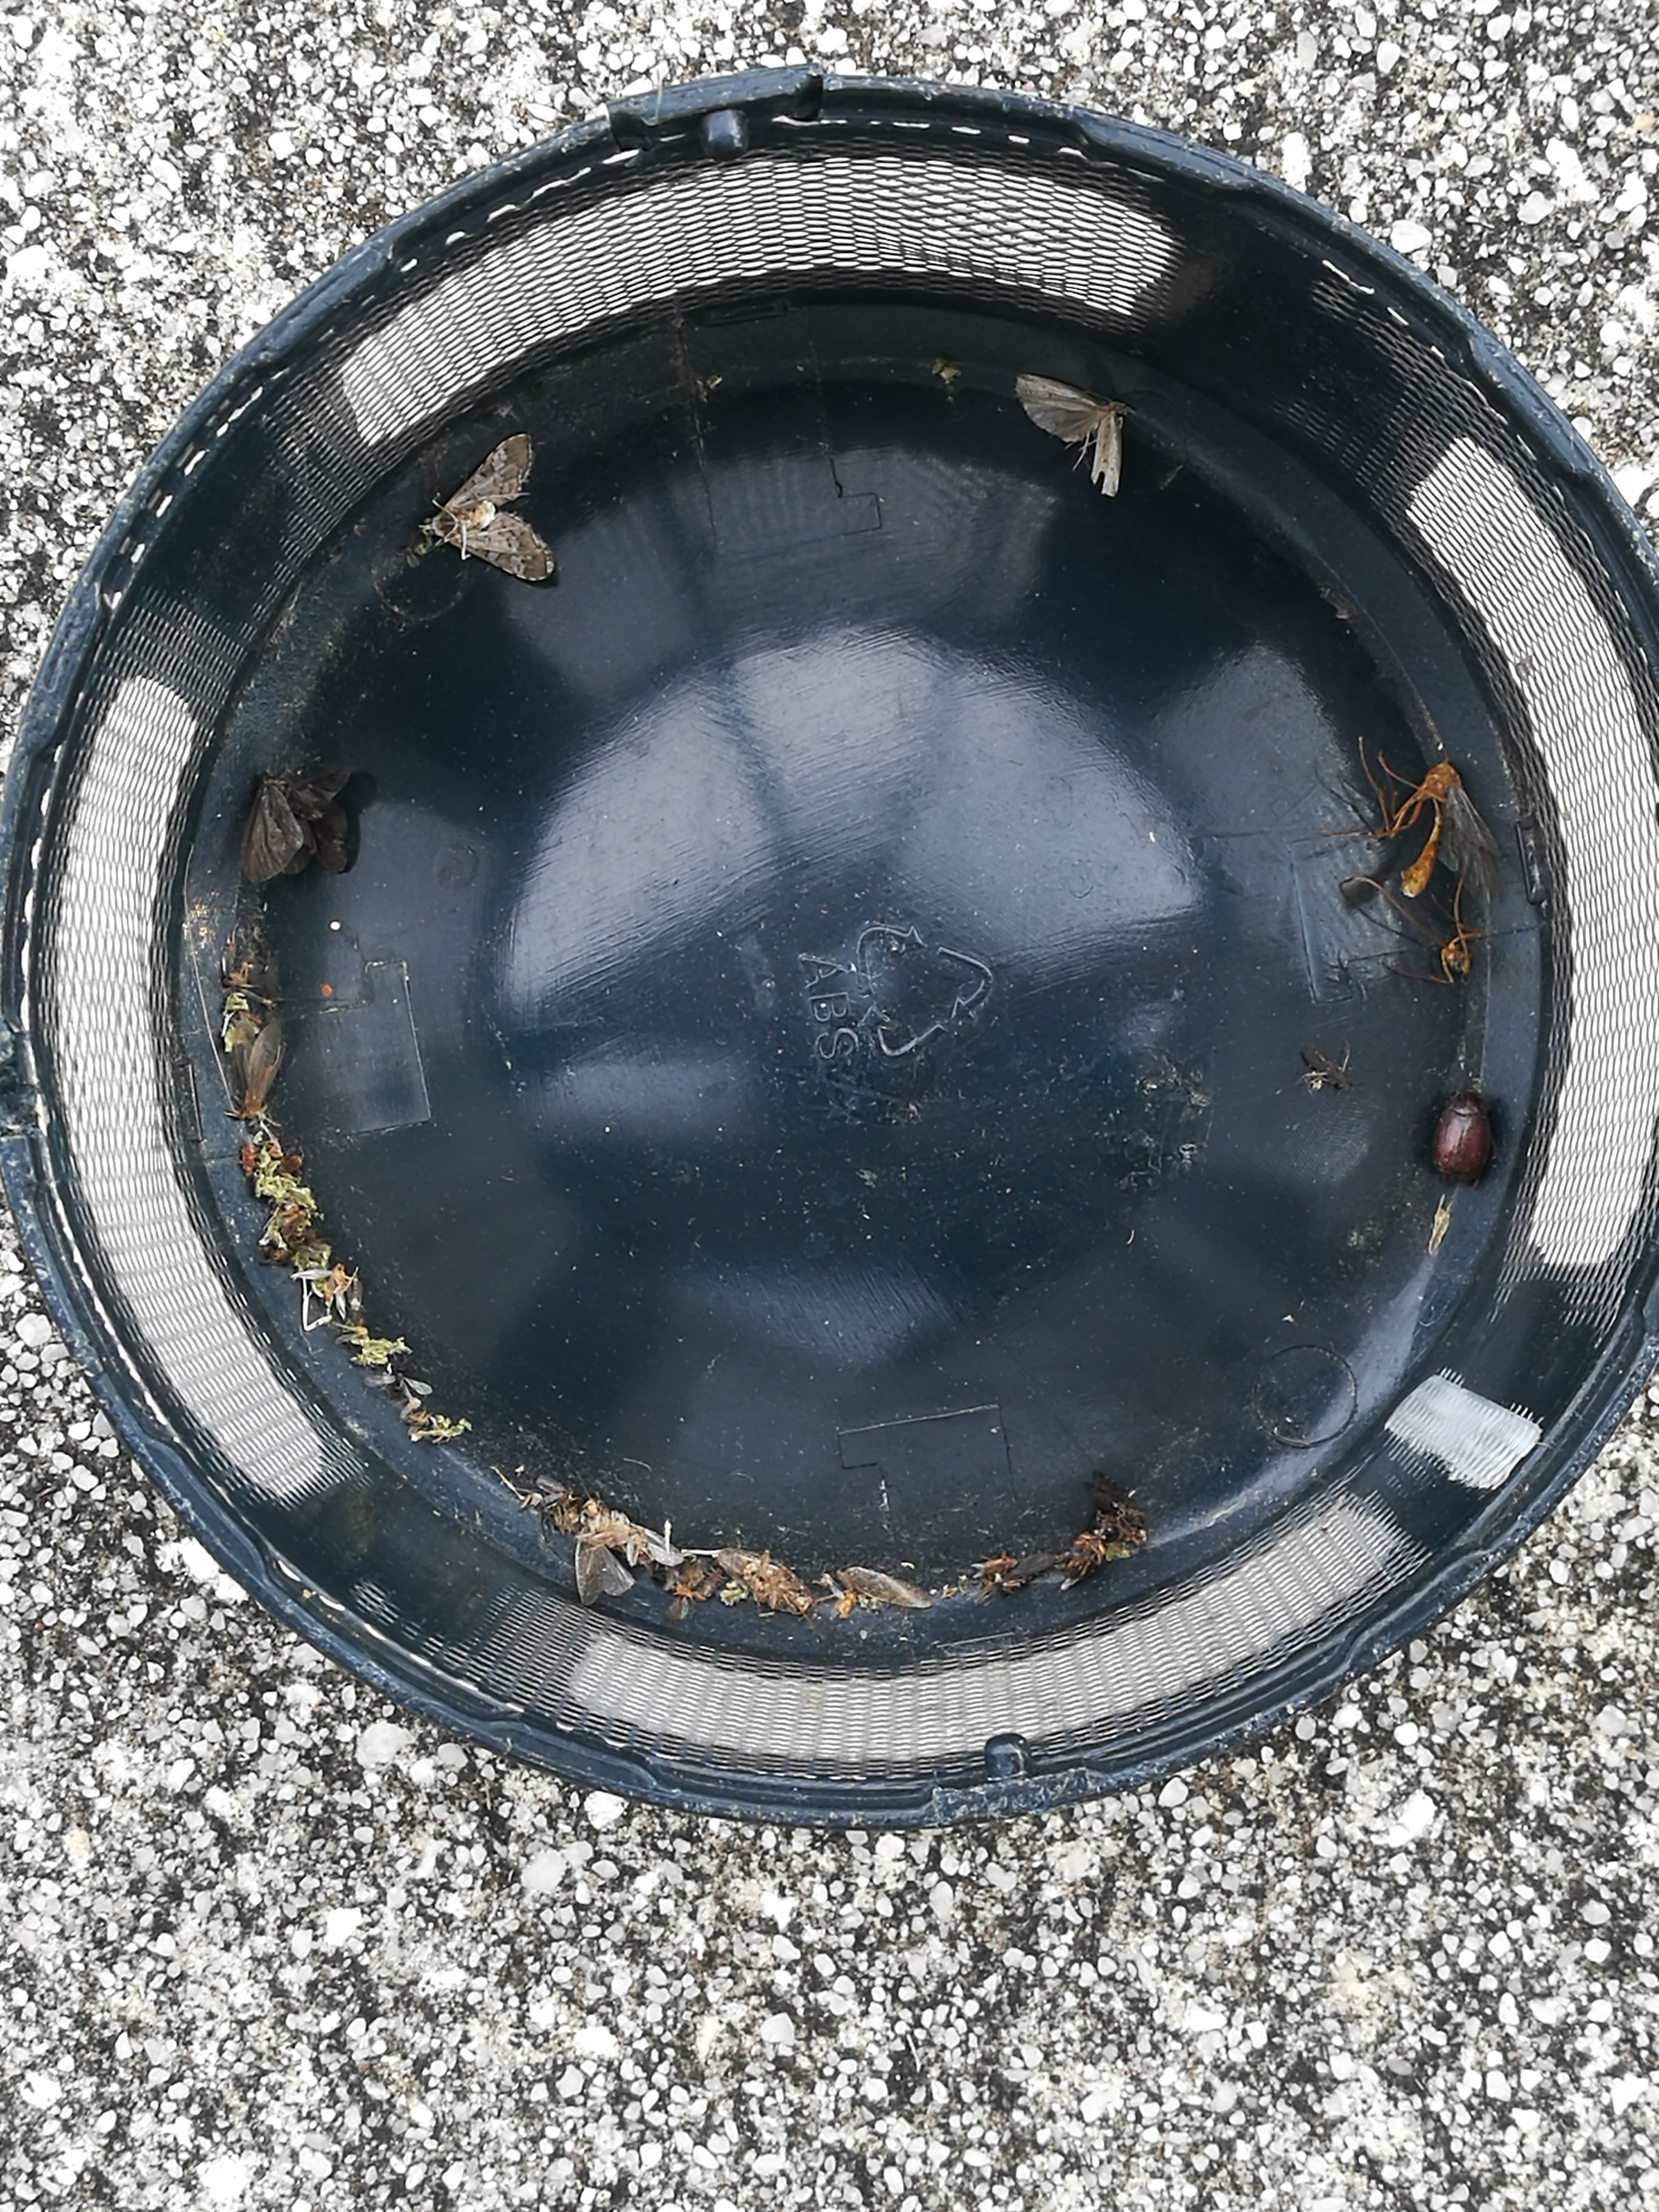beetle: (716, 1548, 810, 1616), (1434, 1092, 1490, 1179)
mosquito: (1302, 1049, 1349, 1089), (1002, 1554, 1053, 1583)
moth: (420, 434, 552, 580), (577, 1496, 681, 1606), (246, 773, 314, 885), (286, 763, 350, 874), (234, 1017, 282, 1116)
